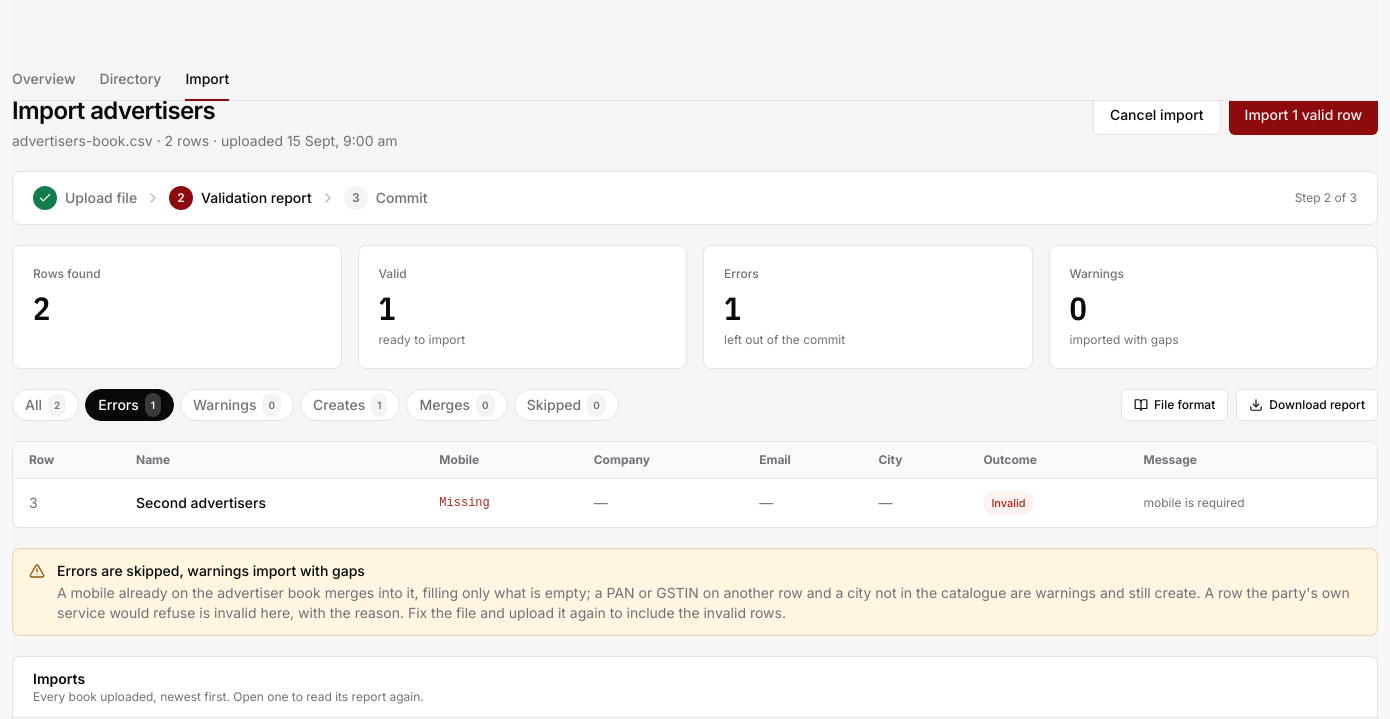
Test: the Import tab › advertisers: with ?id= reads that import under the party and draws its report on the party's grid
The image size is (1390, 719).
Expected: the text "Rows found" is shown, [33,266,101,281]
Expected: the button "Import 1 valid row" is shown, [1229,95,1378,135]
Click the tab "All 2".
click(46, 405)  # box [12,389,79,421]
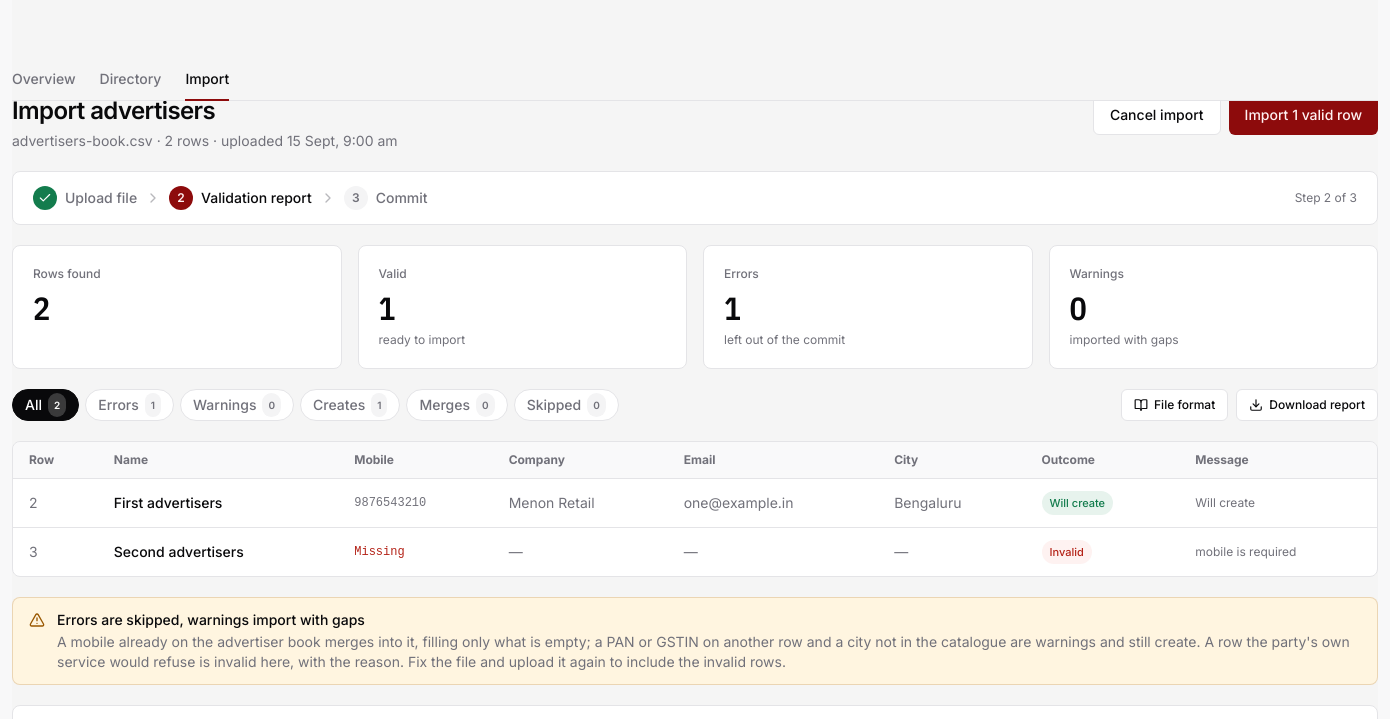
Result: the text "Menon Retail" is shown at [493,478,668,528]
